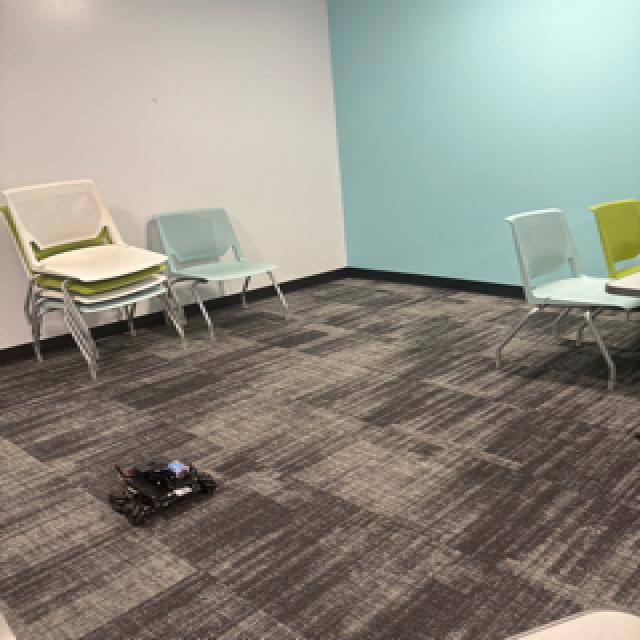ArduinoCar3: (106, 455, 218, 526)
